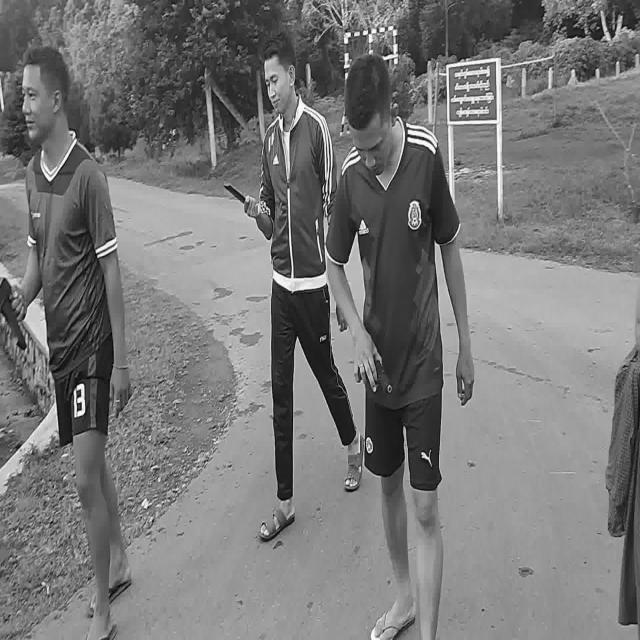gun: (1, 279, 26, 352), (358, 357, 391, 393)
